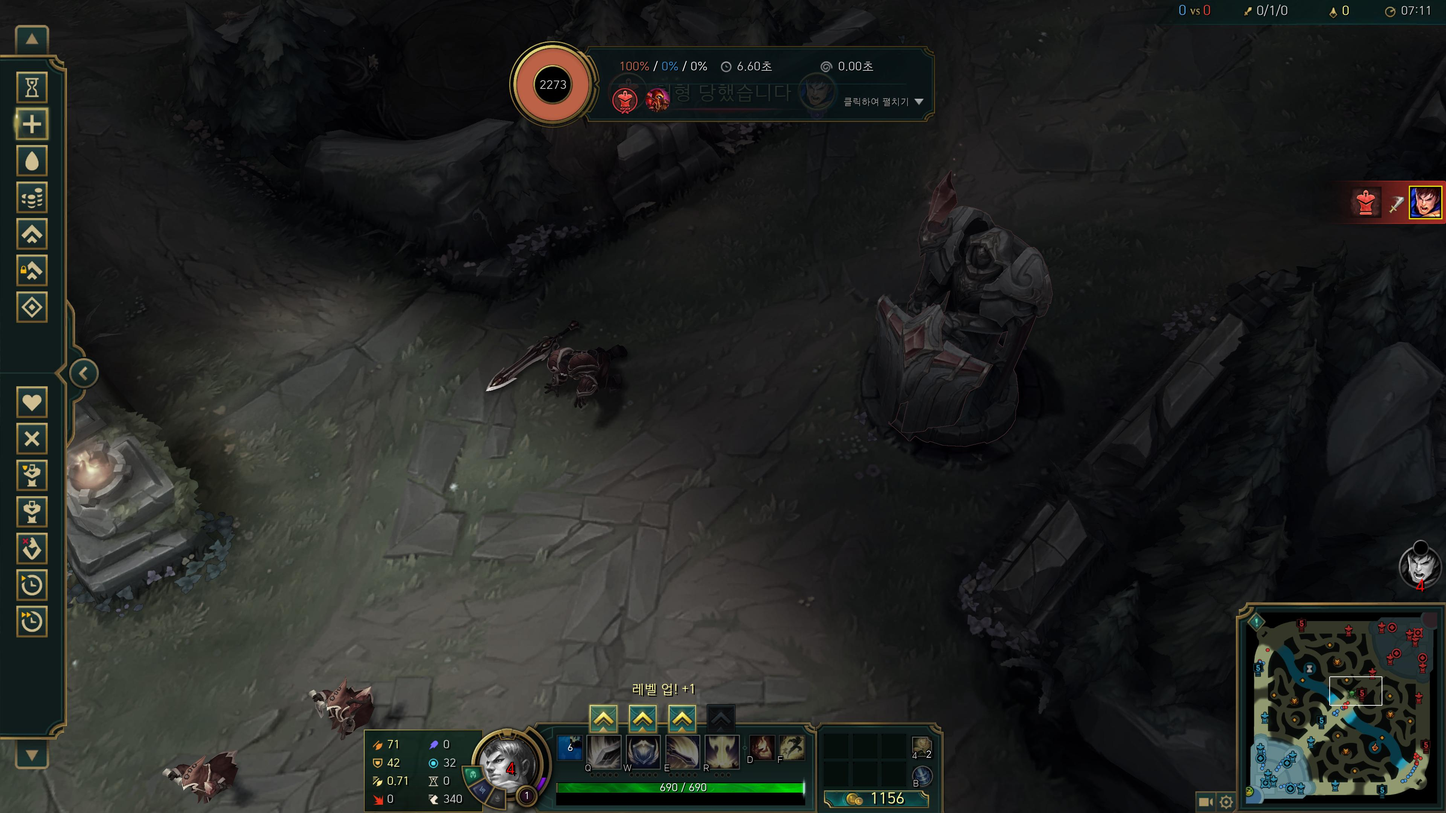enemy-caster-minion: (163, 749, 239, 801), (308, 682, 374, 729)
enemy-tower: (862, 166, 1052, 467)
